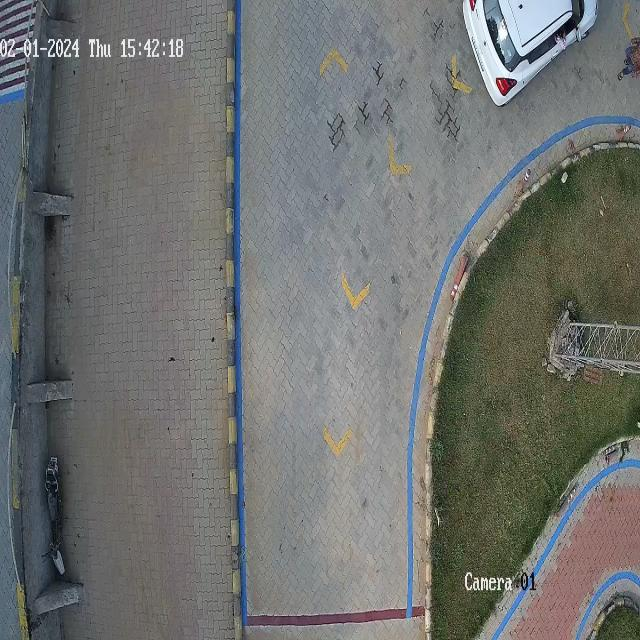car: (462, 0, 599, 107)
